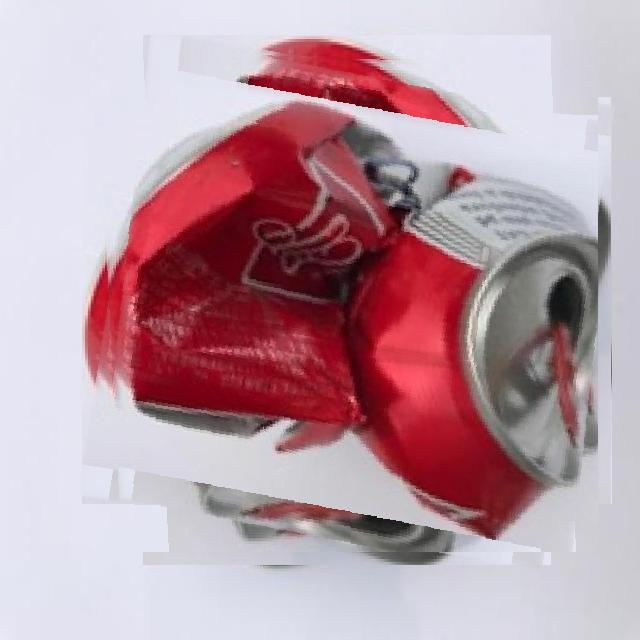recyclable: (96, 49, 598, 552)
